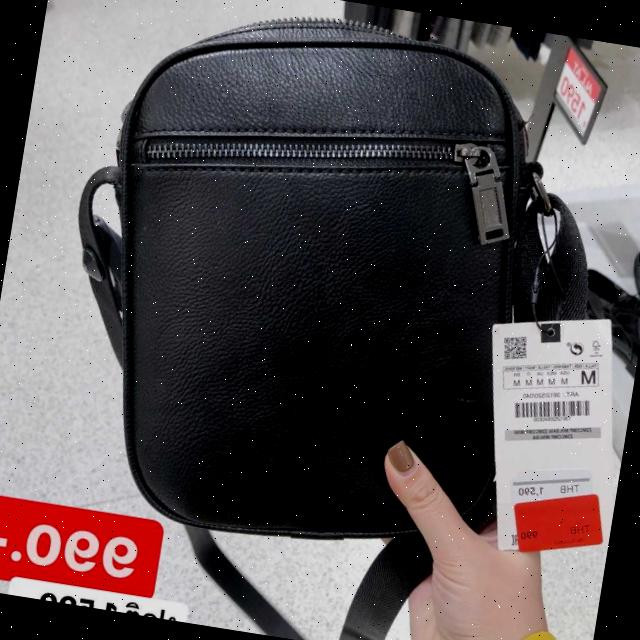Handbag: (83, 0, 639, 585)
